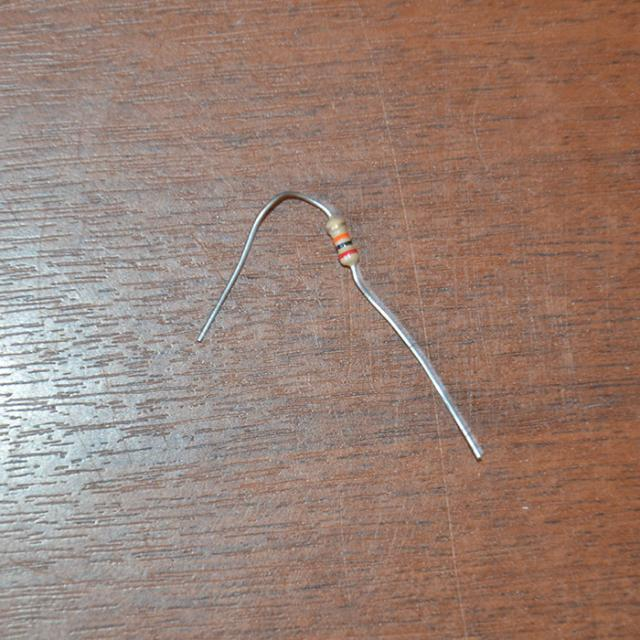black: (336, 240, 352, 251)
gold: (326, 219, 345, 230)
orange: (333, 231, 349, 241)
red: (338, 248, 356, 259)
resistor: (319, 213, 369, 267)
